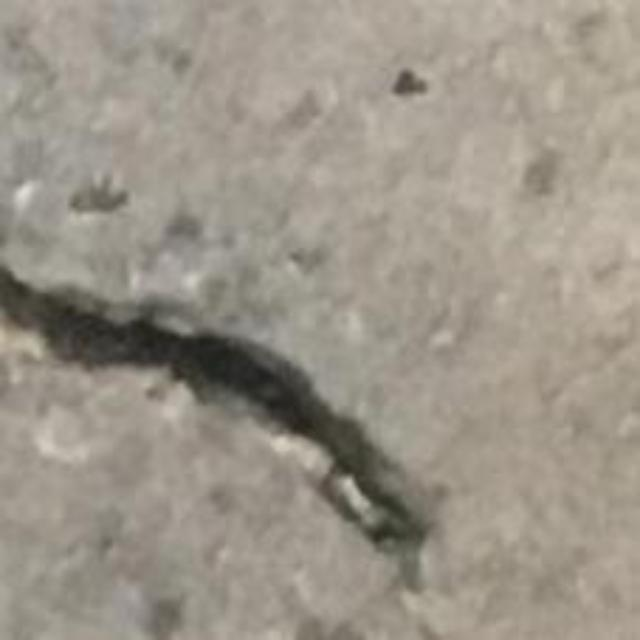crack: (0, 263, 437, 611)
